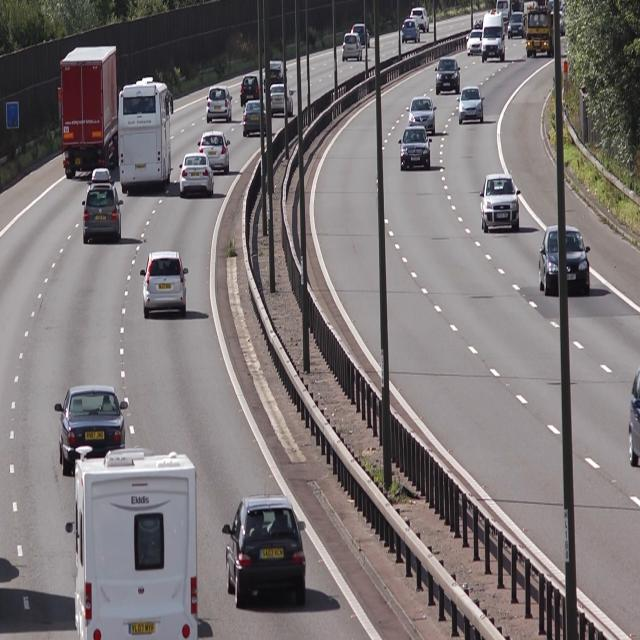Car: (74, 452, 202, 640), (225, 496, 311, 610), (61, 44, 121, 176), (58, 382, 128, 474), (118, 81, 175, 190), (540, 226, 592, 296), (140, 250, 191, 321), (82, 163, 125, 244), (480, 174, 521, 236), (178, 153, 216, 200), (198, 129, 232, 173), (400, 127, 431, 171), (482, 7, 506, 63), (205, 82, 232, 123), (436, 53, 460, 99), (262, 58, 292, 94), (458, 87, 486, 125), (409, 97, 438, 133), (242, 103, 270, 137), (268, 83, 296, 117), (238, 74, 263, 108), (341, 31, 364, 64), (402, 18, 422, 44)
